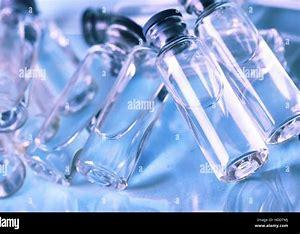Syringe: (140, 4, 271, 186)
